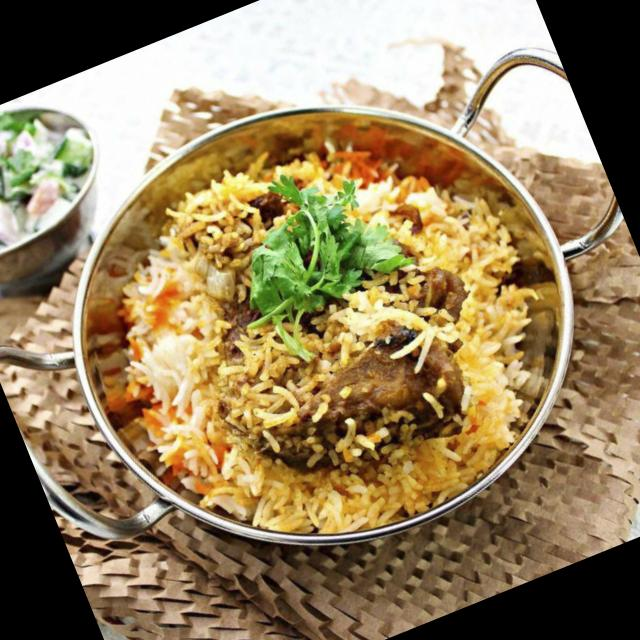Biryani: (59, 70, 596, 600)
